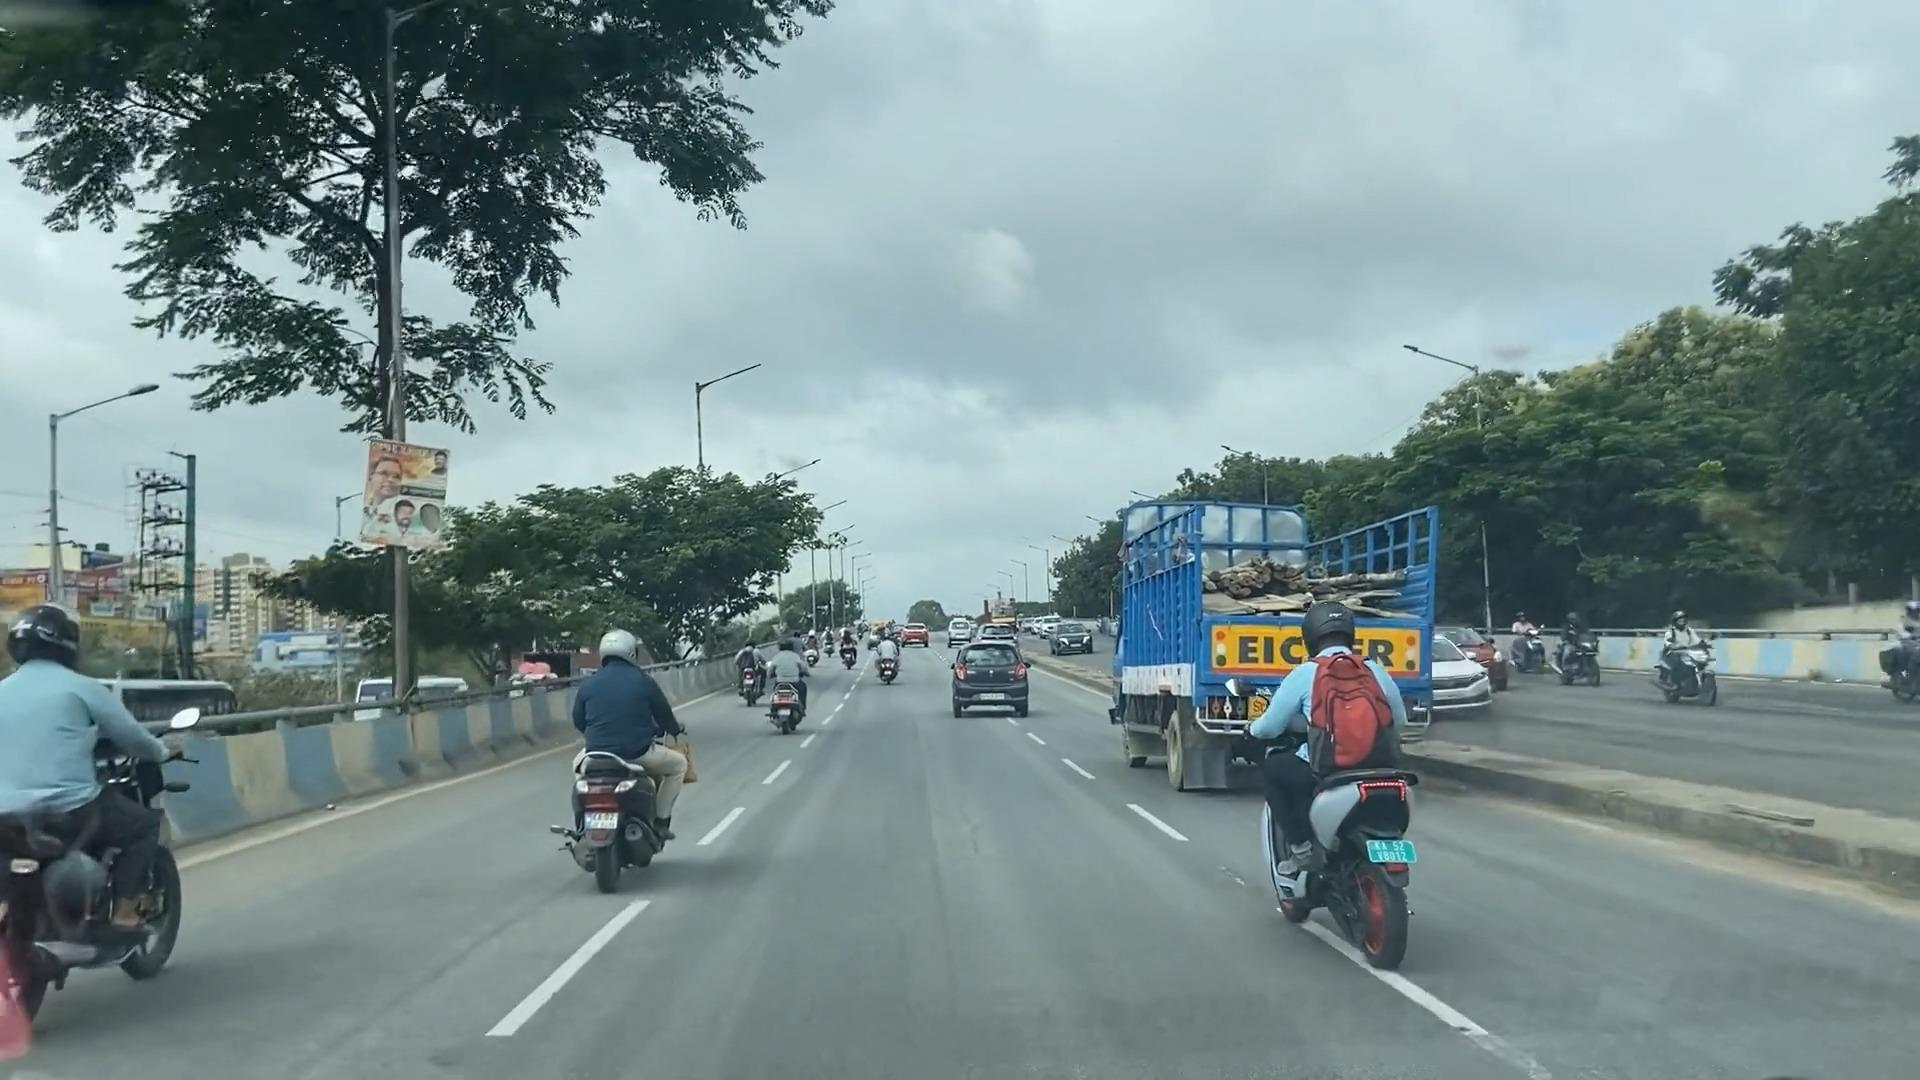LMV: (1267, 593, 1436, 956), (550, 611, 682, 858), (949, 637, 1030, 740), (770, 644, 808, 729)
